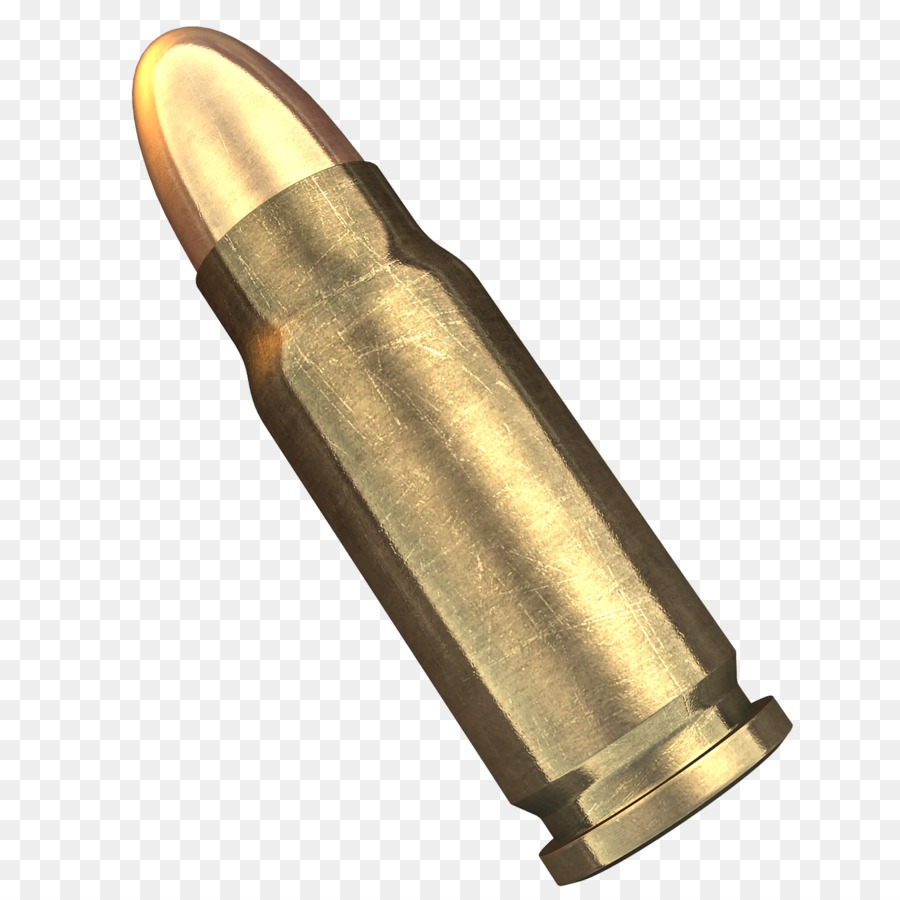bullet: (115, 15, 805, 886)
